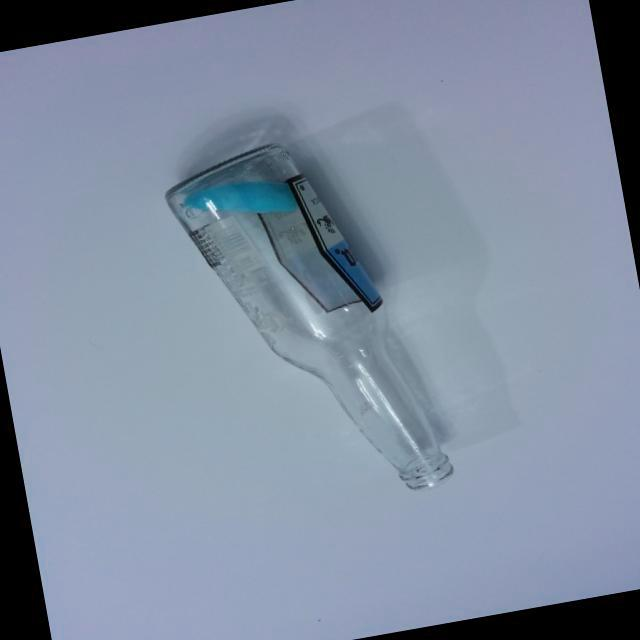glass: (150, 110, 472, 534)
